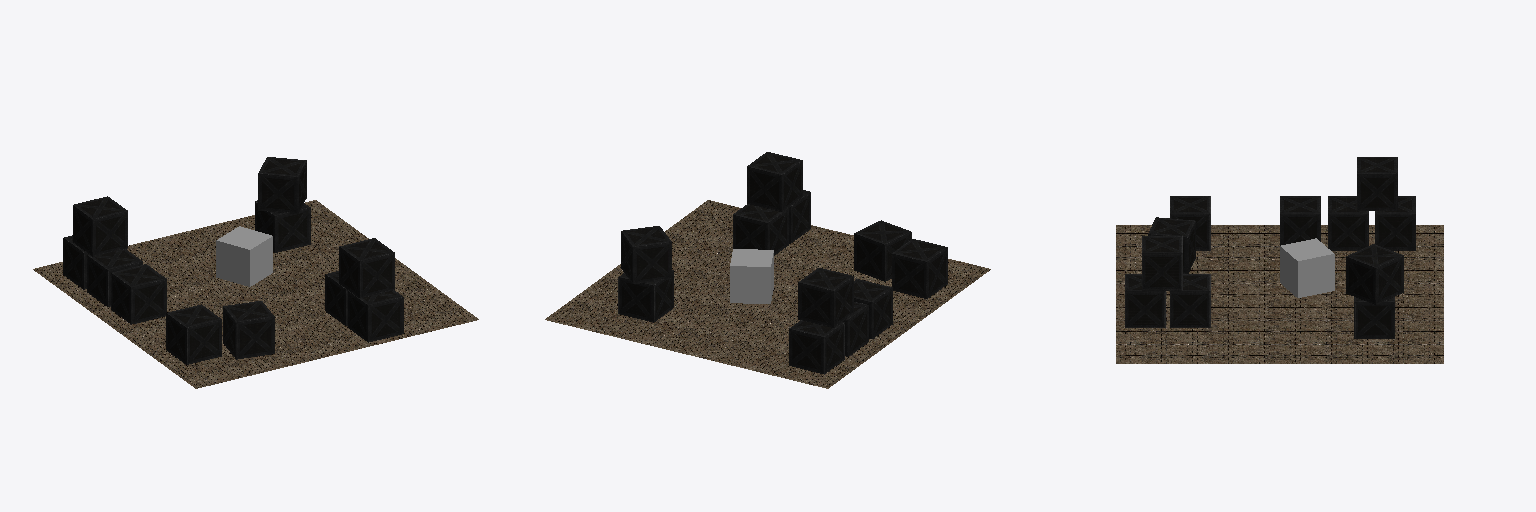
3 views of the same model, side by side, from view 1: azimuth 30°, elevation 25°; view 2: azimuth 150°, elevation 25°; view 3: azimuth 270°, elevation 25° (orthographic).
Visible parts, largest first — view 1: Plane.001, Cube.010_Cube.000, Cube.003_Cube.000, Cube.004_Cube.000, Cube.005_Cube.000, Cube.008_Cube.000, Cube.011_Cube.000, Cube.000_Cube.000, Cube.002_Cube.000, Cube.001, Cube.009_Cube.000, Cube.007_Cube.000 (+1 smaller); view 2: Plane.001, Cube.008_Cube.000, Cube.003_Cube.000, Cube.004_Cube.000, Cube.000_Cube.000, Cube.007_Cube.000, Cube.010_Cube.000, Cube.011_Cube.000, Cube.001_Cube.000, Cube.001, Cube.005_Cube.000, Cube.009_Cube.000 (+1 smaller); view 3: Plane.001, Cube.000_Cube.000, Cube.010_Cube.000, Cube.003_Cube.000, Cube.008_Cube.000, Cube.009_Cube.000, Cube.001_Cube.000, Cube.005_Cube.000, Cube.007_Cube.000, Cube.002_Cube.000, Cube.001, Cube.004_Cube.000 (+1 smaller).
Part boxes in pixels (x1,y1,x2,y2): Plane.001: (33, 200, 478, 388); Cube.010_Cube.000: (216, 226, 272, 286); Cube.003_Cube.000: (339, 238, 394, 297); Cube.004_Cube.000: (166, 304, 221, 364); Cube.005_Cube.000: (111, 264, 166, 324); Cube.008_Cube.000: (73, 196, 127, 256); Cube.011_Cube.000: (223, 301, 274, 359); Cube.000_Cube.000: (258, 157, 306, 213); Cube.002_Cube.000: (348, 290, 403, 342); Cube.001: (255, 200, 310, 252); Cube.009_Cube.000: (87, 249, 142, 306); Cube.007_Cube.000: (63, 235, 89, 289); Plane.001: (545, 200, 990, 388); Cube.008_Cube.000: (798, 268, 853, 327); Cube.003_Cube.000: (747, 152, 802, 211); Cube.004_Cube.000: (892, 239, 947, 298); Cube.000_Cube.000: (621, 226, 671, 283); Cube.007_Cube.000: (789, 320, 844, 374); Cube.010_Cube.000: (730, 249, 773, 303); Cube.011_Cube.000: (854, 220, 911, 281); Cube.001_Cube.000: (733, 204, 788, 255); Cube.001: (618, 270, 673, 322); Cube.005_Cube.000: (854, 279, 892, 338); Cube.009_Cube.000: (843, 302, 868, 356); Plane.001: (1116, 225, 1443, 363); Cube.000_Cube.000: (1346, 244, 1403, 304); Cube.010_Cube.000: (1280, 238, 1334, 297); Cube.003_Cube.000: (1142, 236, 1182, 290); Cube.008_Cube.000: (1357, 157, 1397, 210); Cube.009_Cube.000: (1328, 196, 1368, 250); Cube.001_Cube.000: (1170, 274, 1210, 327); Cube.005_Cube.000: (1280, 196, 1320, 245); Cube.007_Cube.000: (1375, 196, 1415, 250); Cube.002_Cube.000: (1125, 274, 1165, 327); Cube.001: (1354, 297, 1394, 338); Cube.004_Cube.000: (1170, 196, 1210, 250).
Size of the model in its own units: 4.8 by 1.24 by 4.8.
Materials: 3 (2 with a texture image).